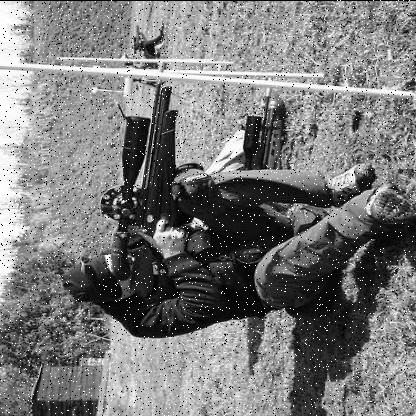rifle: (85, 64, 222, 307)
